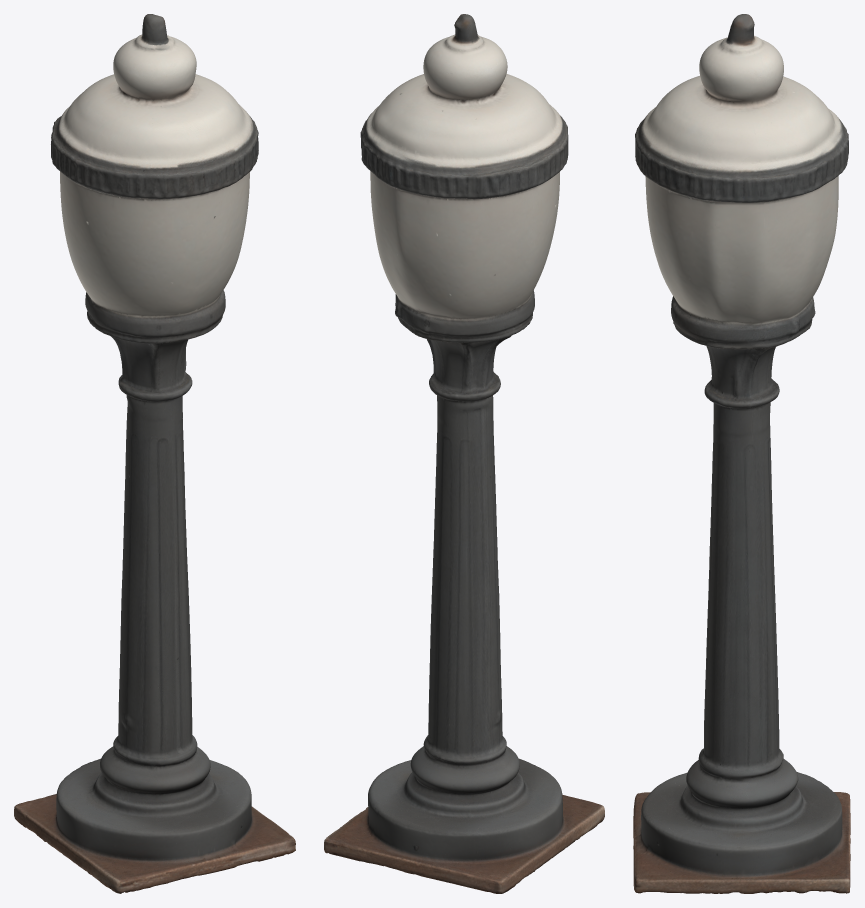
The model's file is 路灯shuai.fbx.
3 views of the same model, side by side, from view 1: azimuth 30°, elevation 25°; view 2: azimuth 150°, elevation 25°; view 3: azimuth 270°, elevation 25° (orthographic).
Parts seen in each view (by area): view 1: Mesh_0; view 2: Mesh_0; view 3: Mesh_0.
Part boxes in pixels (box(x1,y1,x2,y2)): Mesh_0: box(14, 14, 295, 893); Mesh_0: box(324, 14, 604, 893); Mesh_0: box(633, 14, 850, 893).
Bounding box in the file's own units: 46.15 × 200 × 47.22.
1 material, 1 textured.
